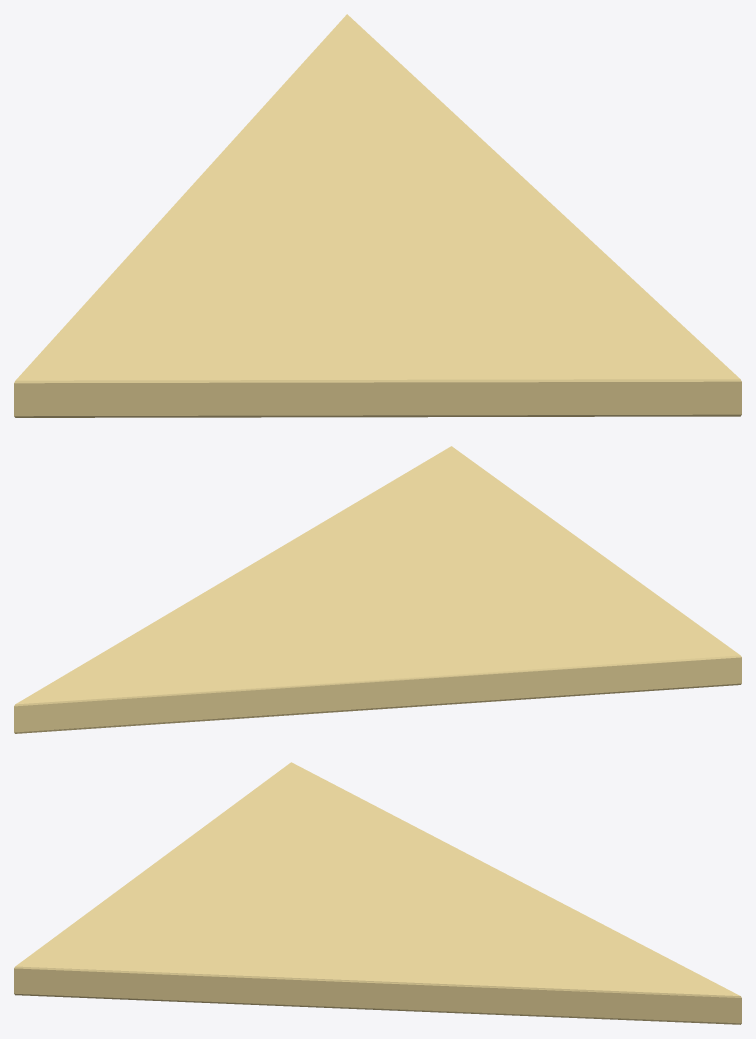
File: STP.glb
3 views of the same model, one above another, from view 1: azimuth 30°, elevation 25°; view 2: azimuth 150°, elevation 25°; view 3: azimuth 270°, elevation 25° (orthographic). The views are drawn at different scales.
Bounding box in the file's own units: 1.19 × 0.068 × 1.56.
